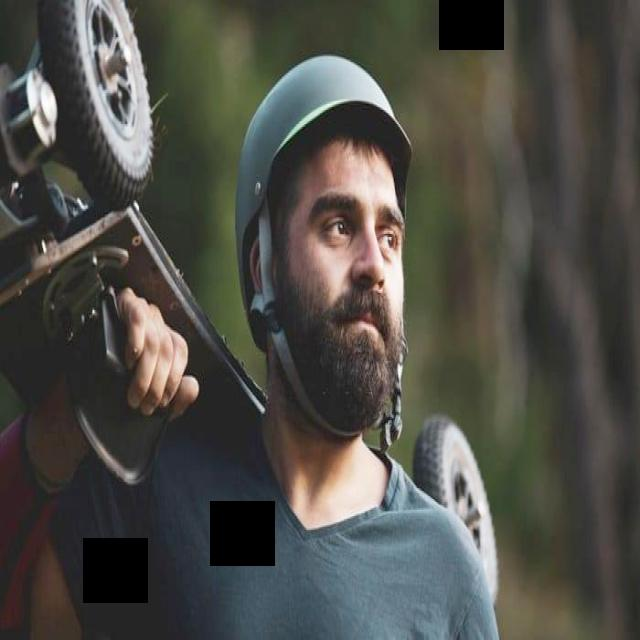Helmet: (234, 51, 416, 430)
